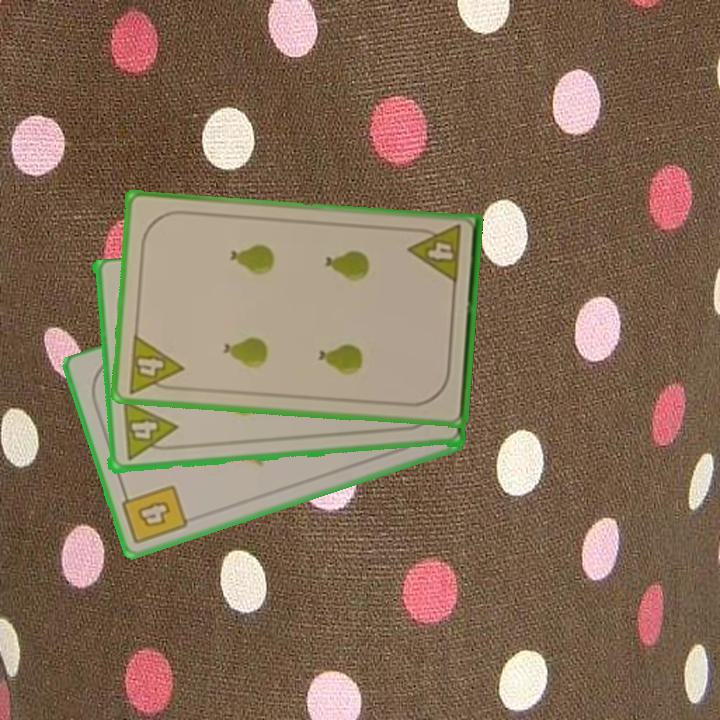4b: (118, 481, 191, 548)
4p: (124, 331, 186, 396), (119, 399, 180, 464), (406, 222, 464, 287)
